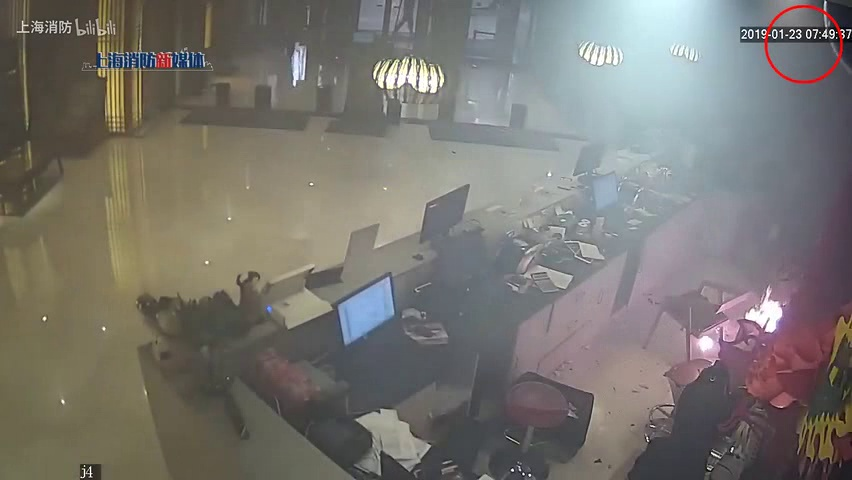fire: (740, 281, 785, 342)
